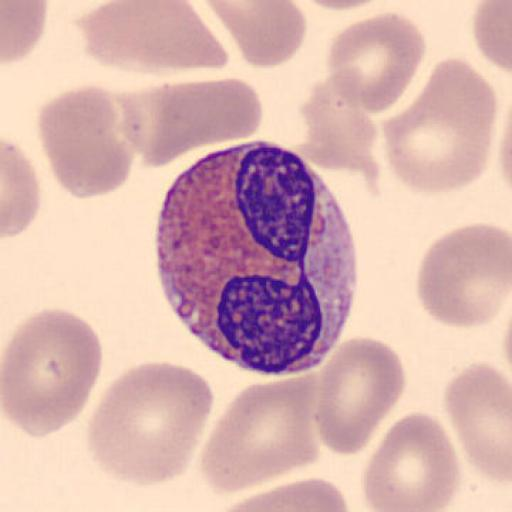RBC: (85, 359, 215, 487), (382, 58, 497, 194), (200, 376, 322, 494), (1, 306, 104, 439), (121, 76, 263, 169), (36, 84, 138, 200), (314, 333, 408, 457), (77, 0, 230, 72), (324, 10, 426, 114), (415, 220, 511, 330), (360, 410, 463, 512), (442, 360, 512, 484), (299, 69, 378, 172), (204, 0, 308, 68), (210, 475, 352, 512), (1, 137, 42, 238), (1, 0, 50, 68), (472, 0, 512, 75), (200, 1, 311, 23), (498, 96, 512, 190), (293, 0, 387, 11)
WBC: (154, 134, 359, 377)
